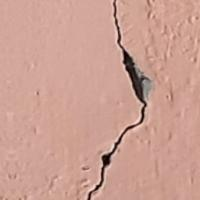crack: (68, 0, 159, 199)
